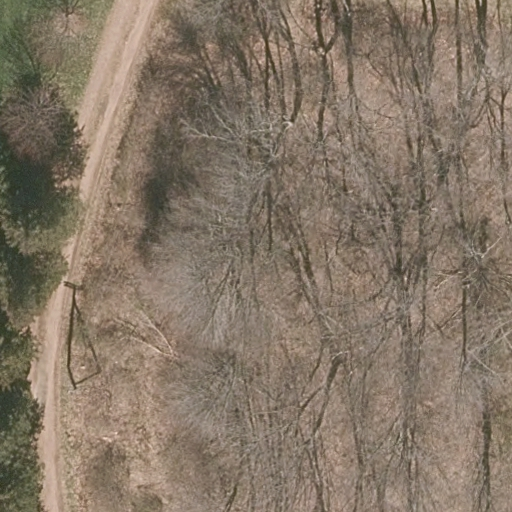DT: (63, 278, 85, 364)
